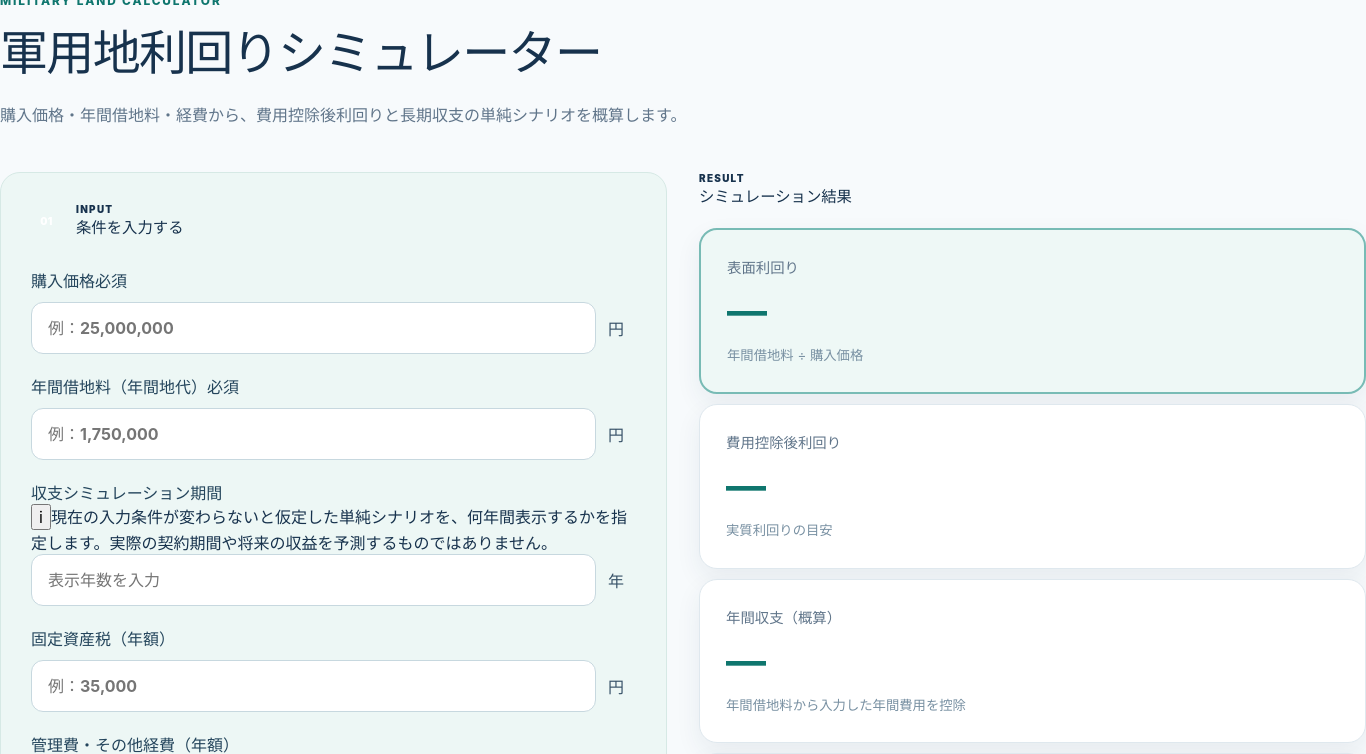
Test case: MilitaryLandCalculator result navigation › moves to the result region after a successful manual calculation on mobile
The image size is (1366, 754).
Type "300000" into the field labelled "年間借地料（年間地代）必須 円" at (314, 434), box [31,408,596,460]
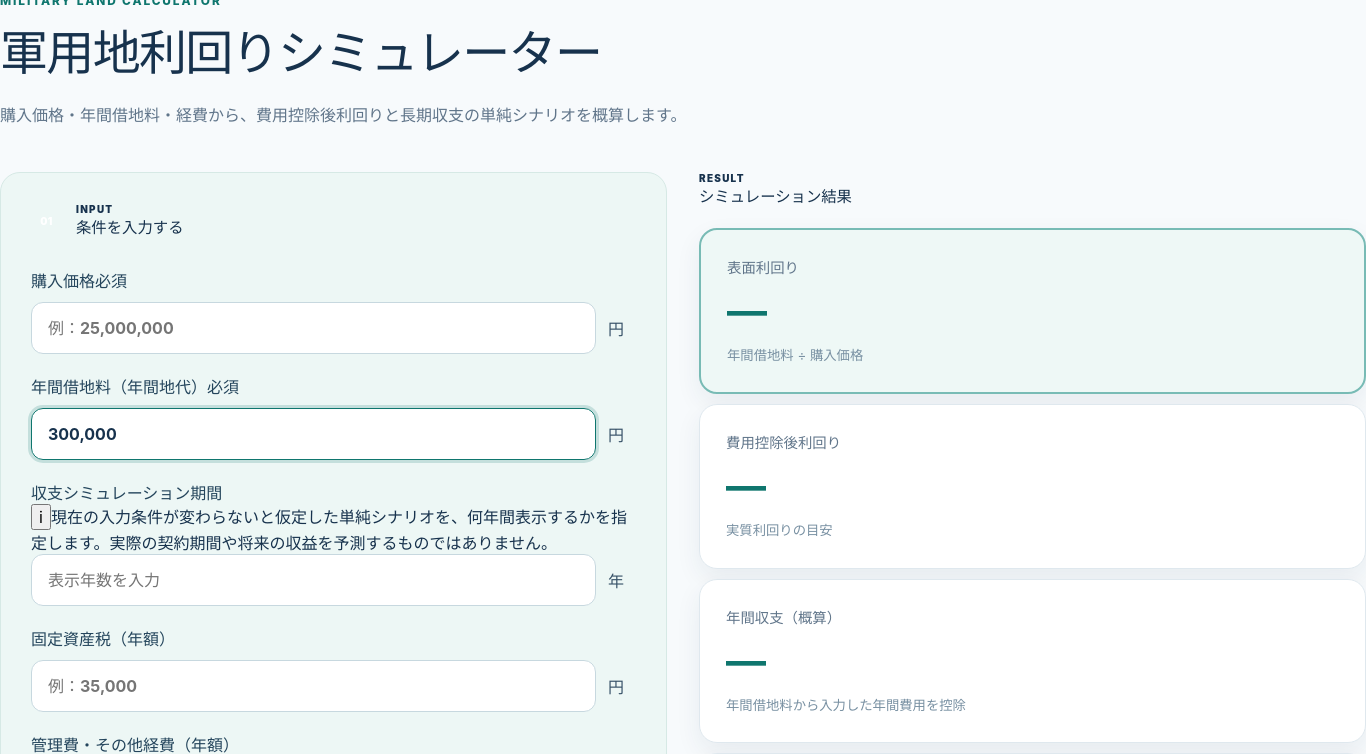
Type "15000000" into the field labelled "購入価格" at (314, 328), box [31,302,596,354]
(page scrolled)
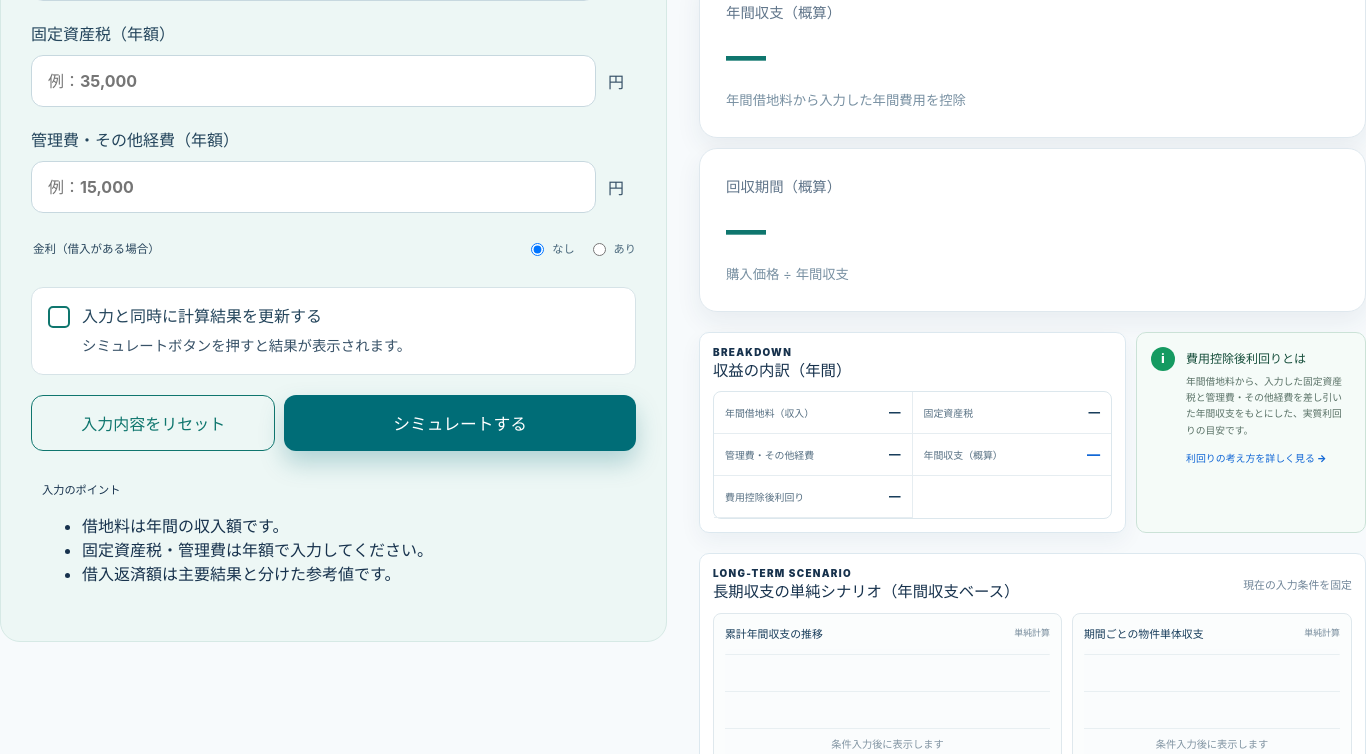
Click the button "シミュレートする" at (460, 422), box [284,394,636,450]
(page scrolled)
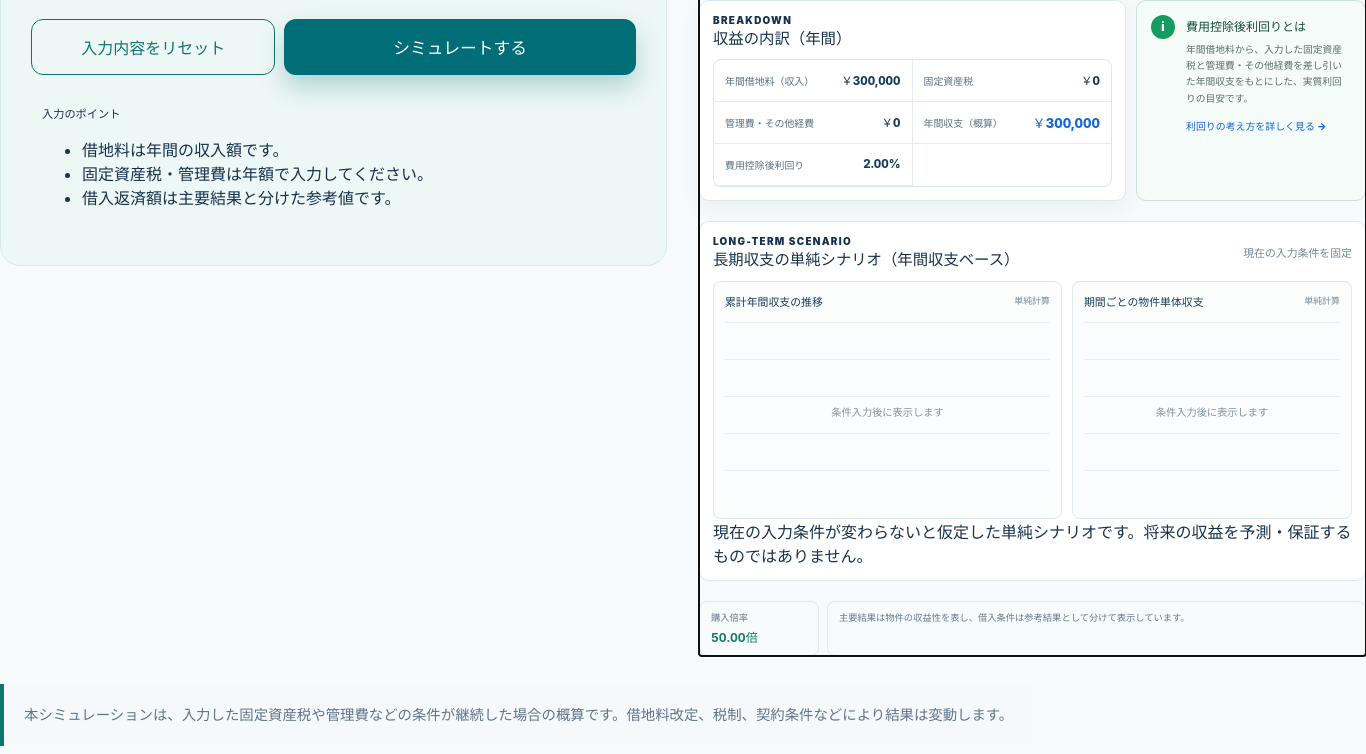
Result: the text "50.00倍" is shown at [711,630,758,645]
